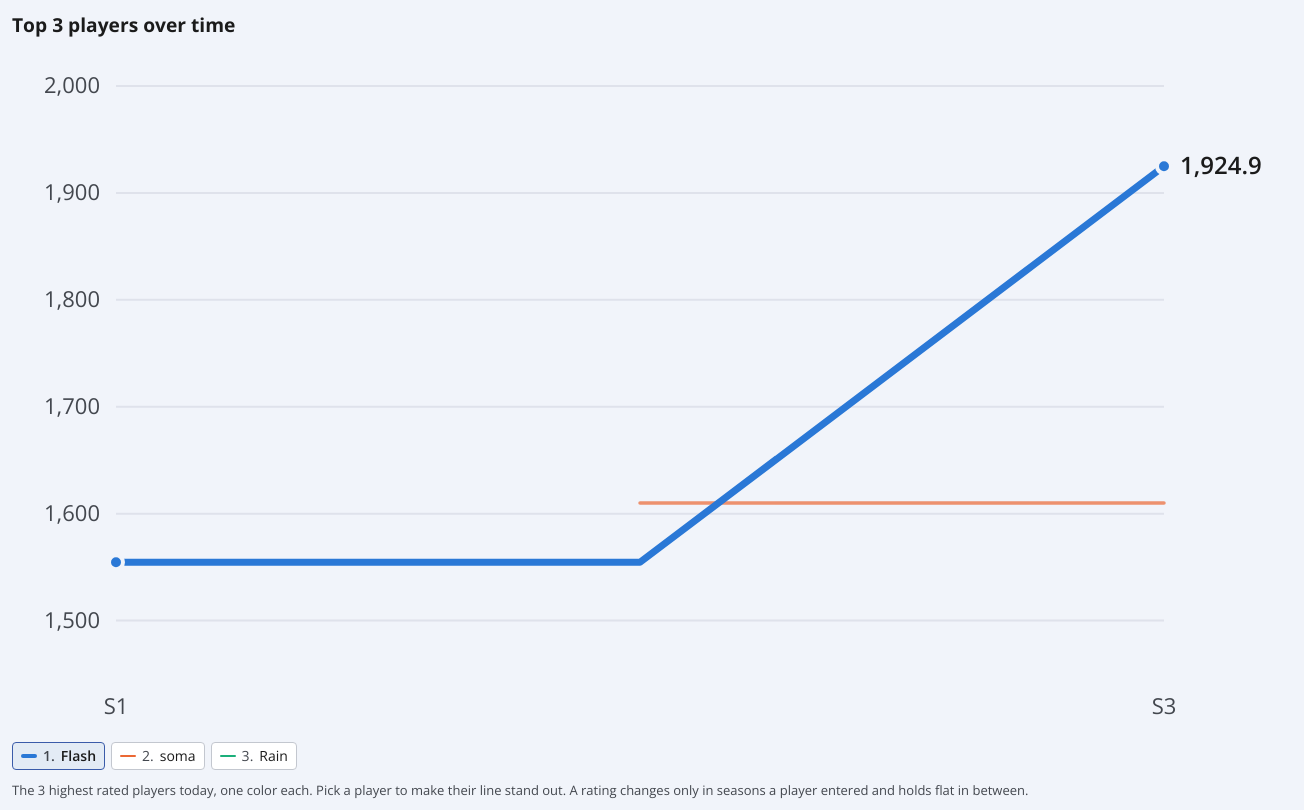
Scenario: EloTopChart › reads out a season with the arrow keys, holding a rating through skipped seasons
Focus the picture: (652, 390) [12,50,1292,730]
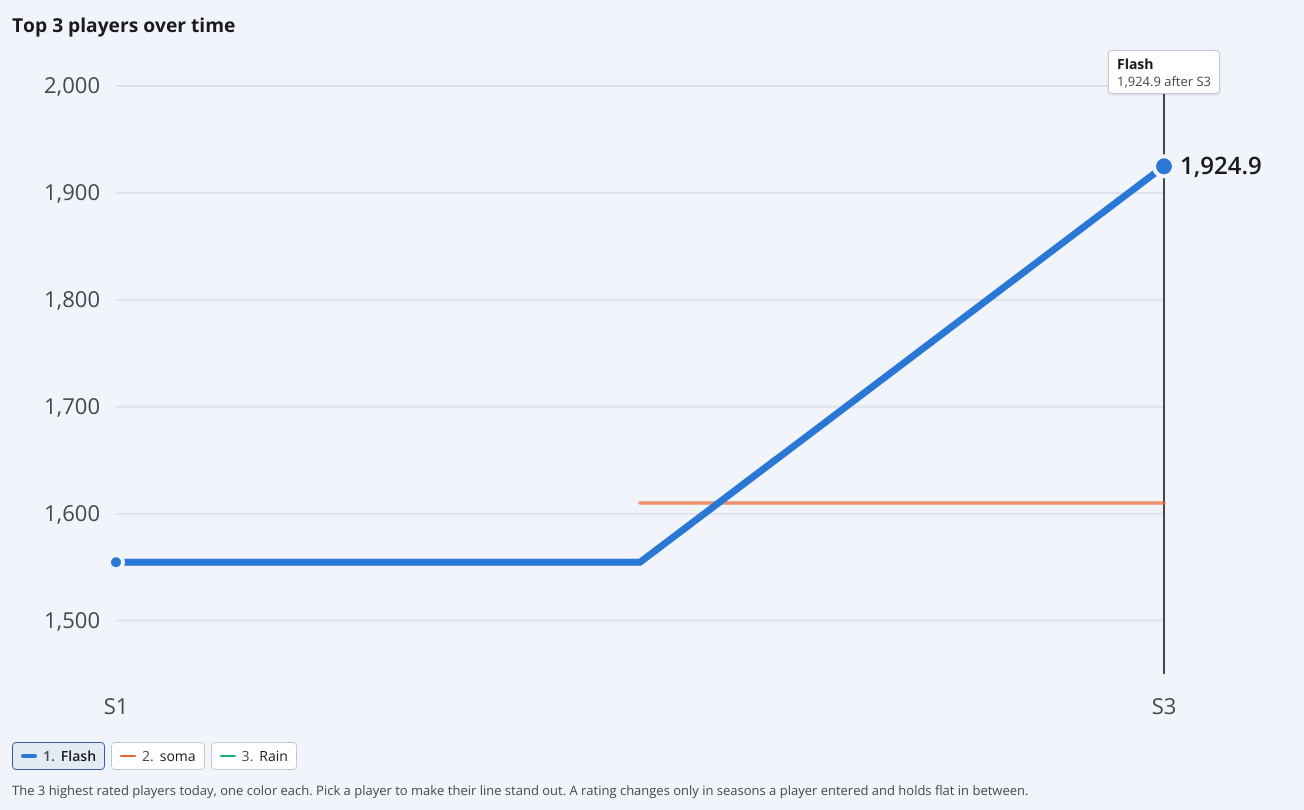
Check: the message reads "Flash 1,924.9 after S3", box [1108,50,1220,94]
Press ArrowLeft in the picture
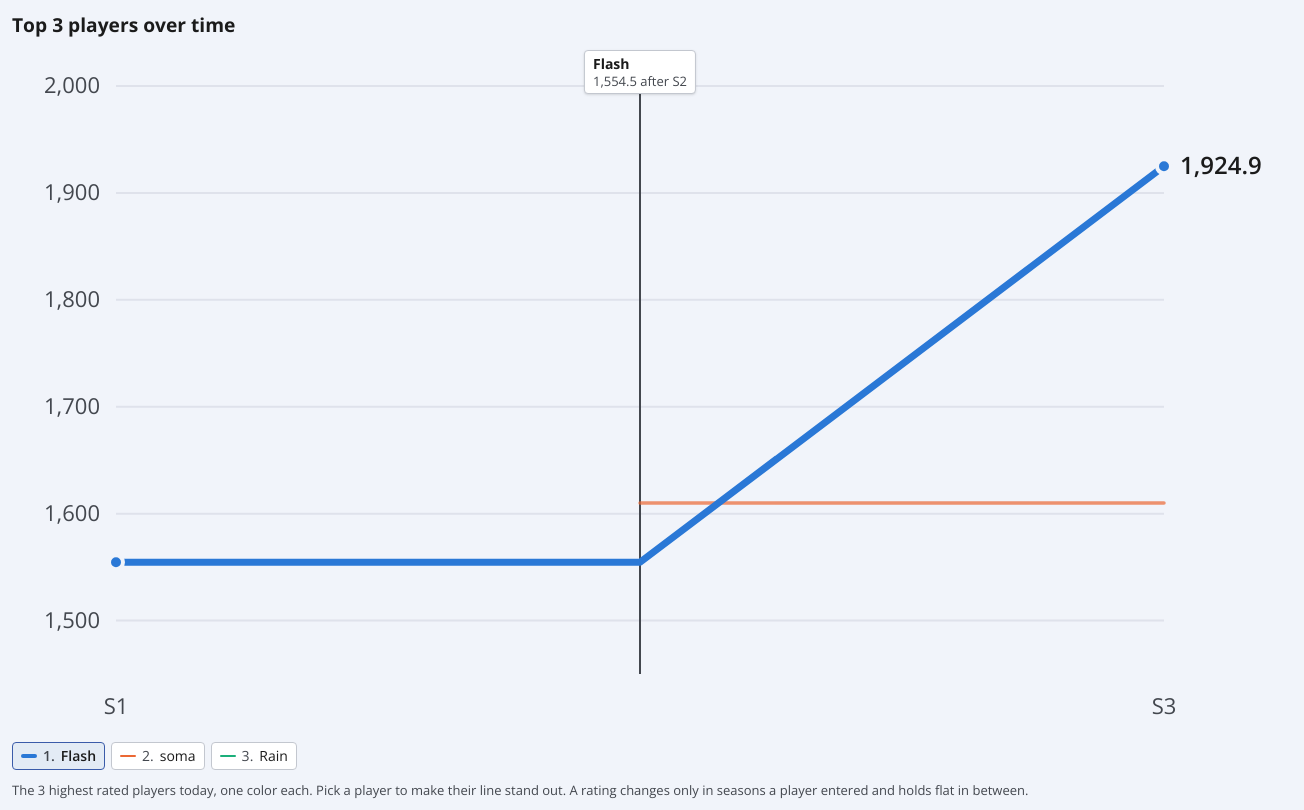
Check: the message reads "Flash 1,554.5 after S2", box [584,50,696,94]
Click the button named "3.Rain": (254, 756) [211,742,297,770]
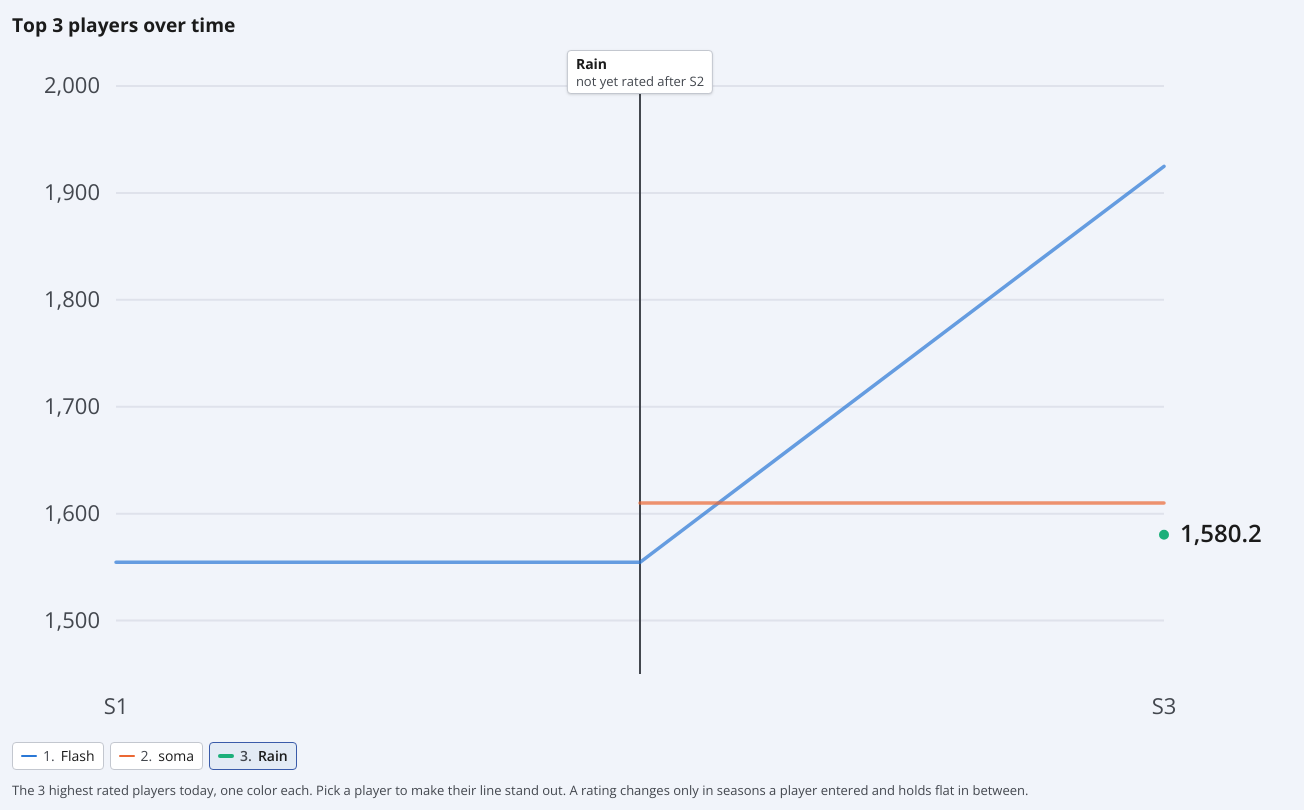
Check: the message reads "Rain not yet rated after S2", box [567,50,713,94]
